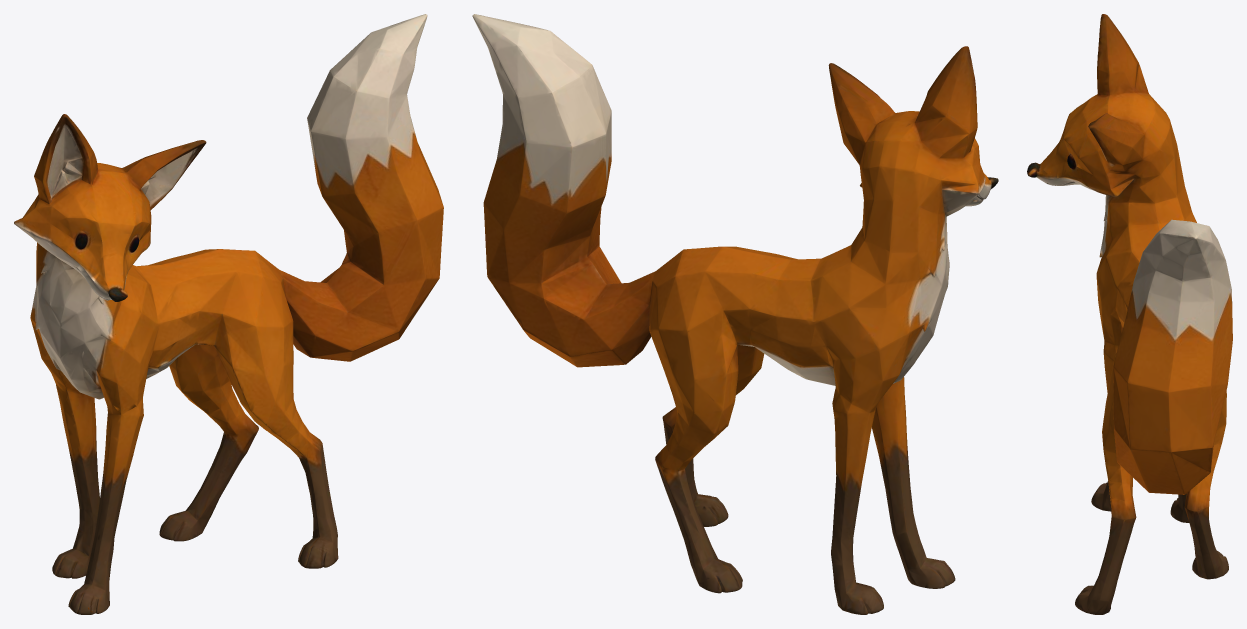
Rendered from rose.glb.
3 renders of one model, left to right at view 1: azimuth 30°, elevation 25°; view 2: azimuth 150°, elevation 25°; view 3: azimuth 270°, elevation 25°, orthographic. The views are drawn at different scales.
Visible parts, largest first — view 1: node_0; view 2: node_0; view 3: node_0.
Boxes of the visible parts, x1=… form: node_0: x1=14, y1=14, x2=443, y2=614; node_0: x1=472, y1=14, x2=998, y2=614; node_0: x1=1027, y1=14, x2=1232, y2=614.
Bounding box in the file's own units: 0.8591 × 0.9366 × 0.3649.
1 material, 1 textured.
